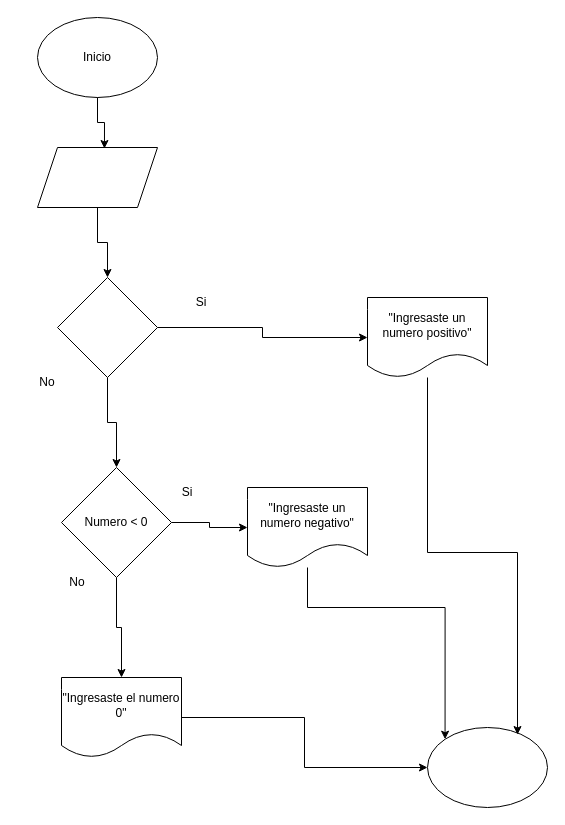
This 565x825 diagram has some shape labels left out. Here are the shapes that lost their labels. From the top down, the centre of each, then its label:
pixel 97 177: Numero
pixel 107 327: Numero > 0
pixel 487 767: Fin
